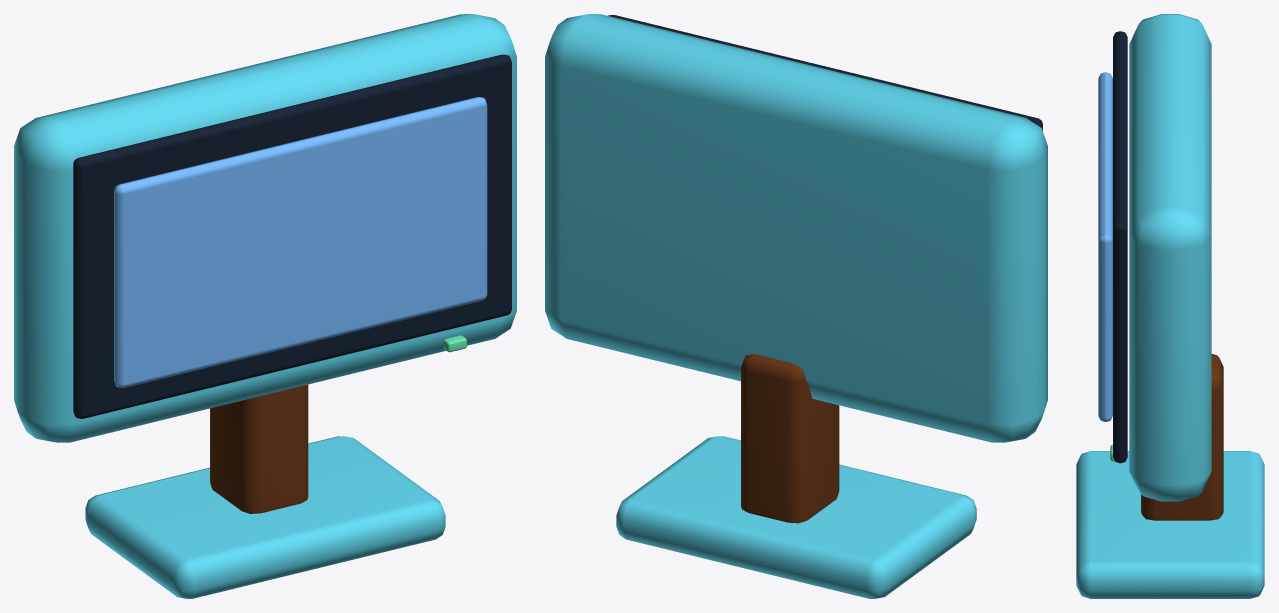
File: monitor.fbx
3 renders of one model, left to right at view 1: azimuth 30°, elevation 25°; view 2: azimuth 150°, elevation 25°; view 3: azimuth 270°, elevation 25°, orthographic. The views are drawn at different scales.
Visible parts, largest first — view 1: monitor; view 2: monitor; view 3: monitor.
Part boxes in pixels (x1,y1,x2,y2): monitor: (14,14,516,598); monitor: (545,14,1047,598); monitor: (1076,14,1264,598).
Bounding box in the file's own units: 100 × 92.05 × 36.36.
Materials: 1 (1 with a texture image).
